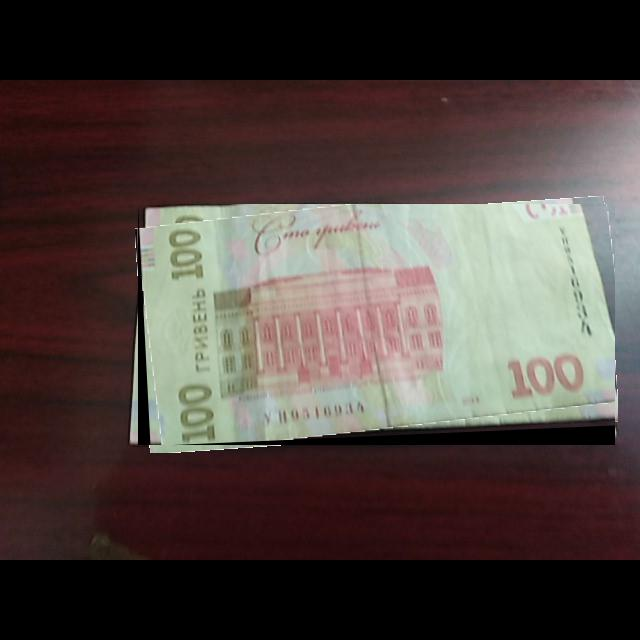100uah: (138, 204, 616, 446)
